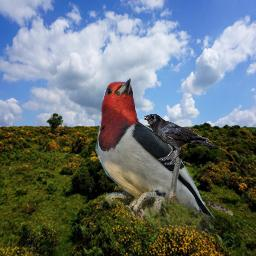Crow: (143, 113, 215, 165)
Woodpecker: (91, 70, 222, 235)
